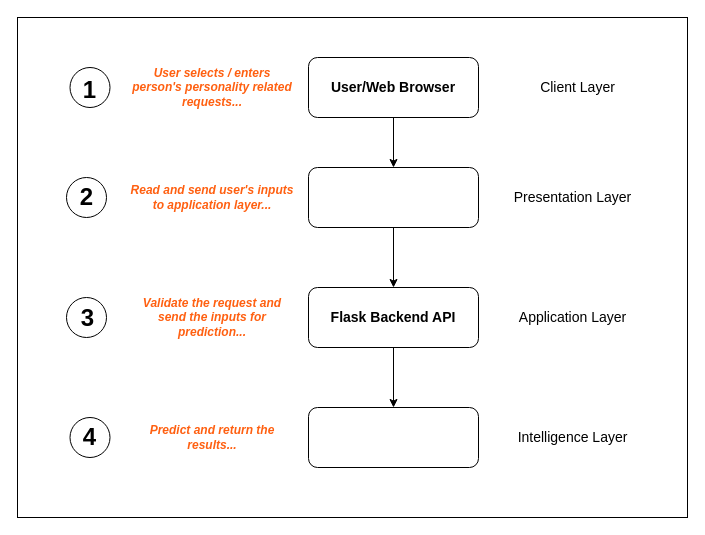
Image size: 705x535. Some labels were removed from this diagram. The shapes that lost their labels are listed below. From the top down, each one's centre as x and y in pixels, then its label:
At pixel 393 197: "Streamlit Frontend".
At pixel 393 437: "Machine Learning Pipeline".
